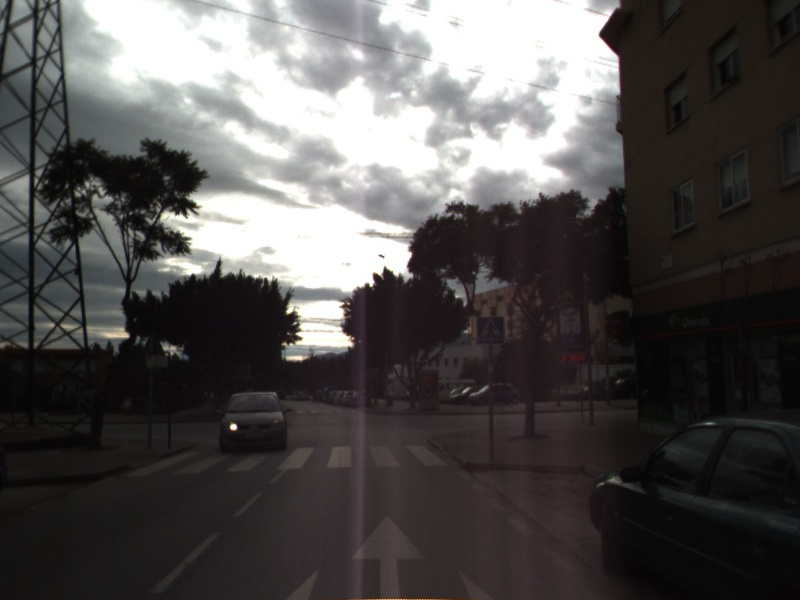STRAIGHT: (349, 512, 430, 600)
